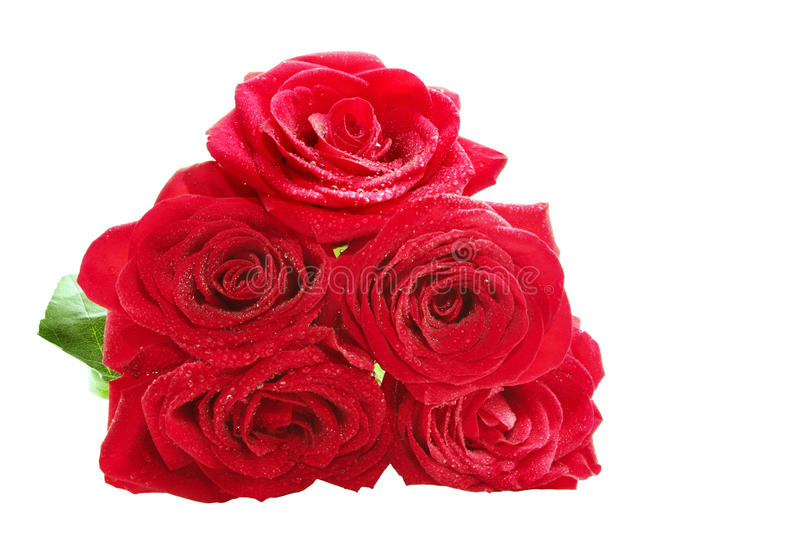RedRose: (228, 45, 467, 228), (344, 197, 584, 361), (135, 195, 337, 342), (405, 329, 601, 477), (229, 336, 372, 481)
